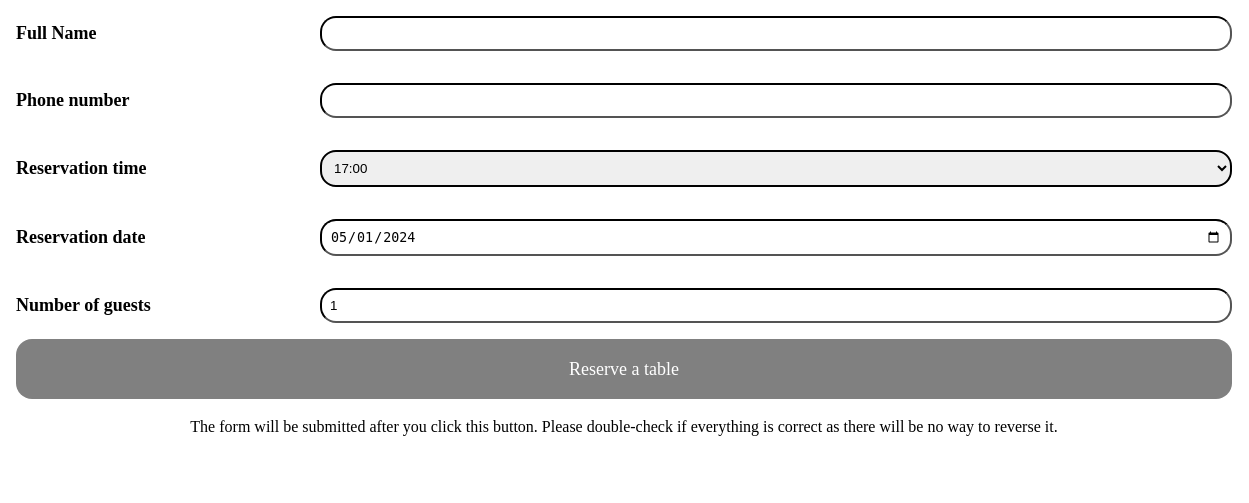
error when date from the past is choosen
Type "1998-03-14" into the date field labelled "Reservation date".
click(776, 238); type("1998-03-14")  # box [320,219,1232,256]
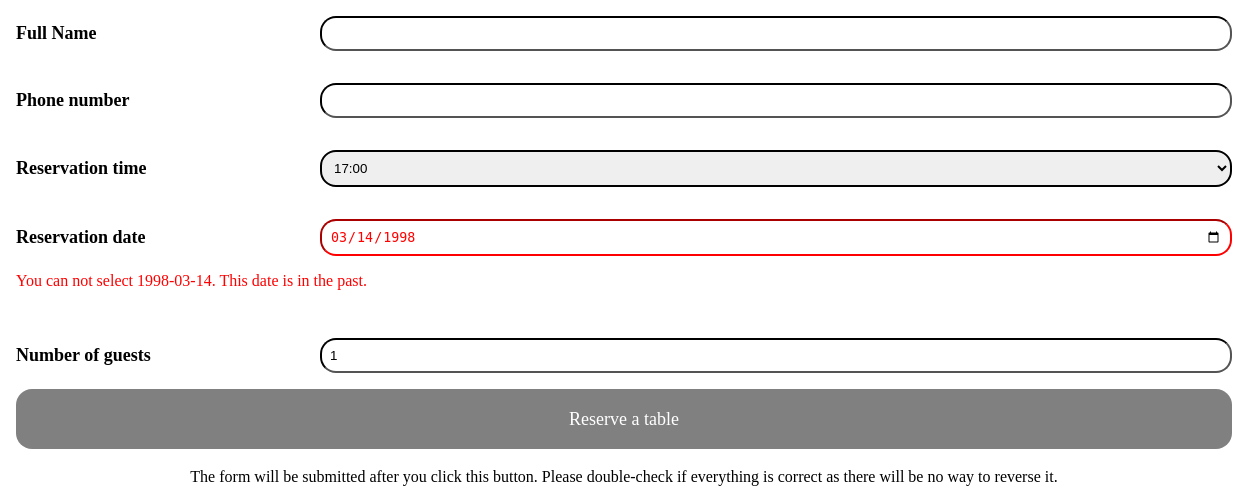
Expected: the text "You can not select 1998-03-14. This date is in the past." is shown, [16,272,367,290]
